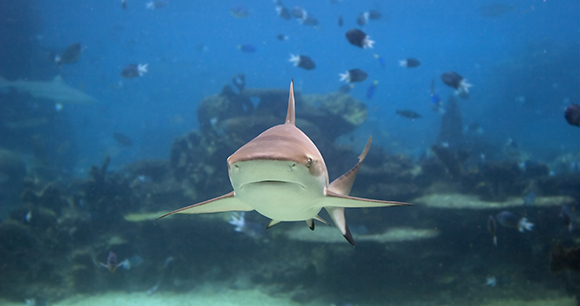shark: (156, 74, 424, 251)
